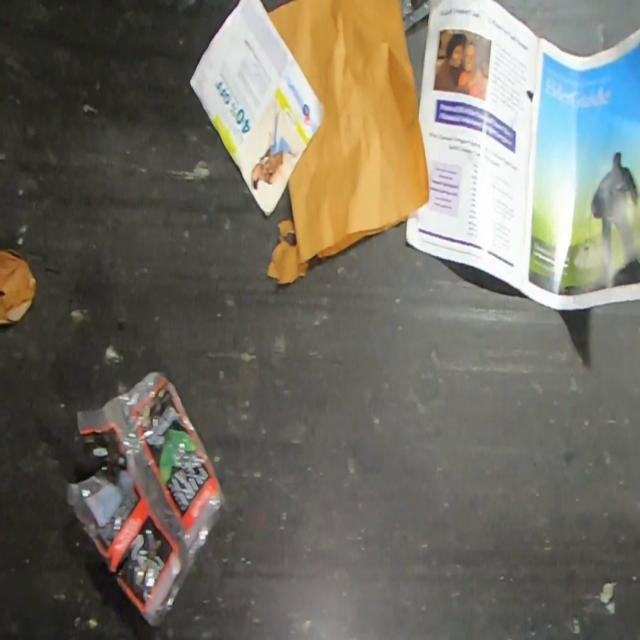soft_plastic: (64, 366, 230, 633)
